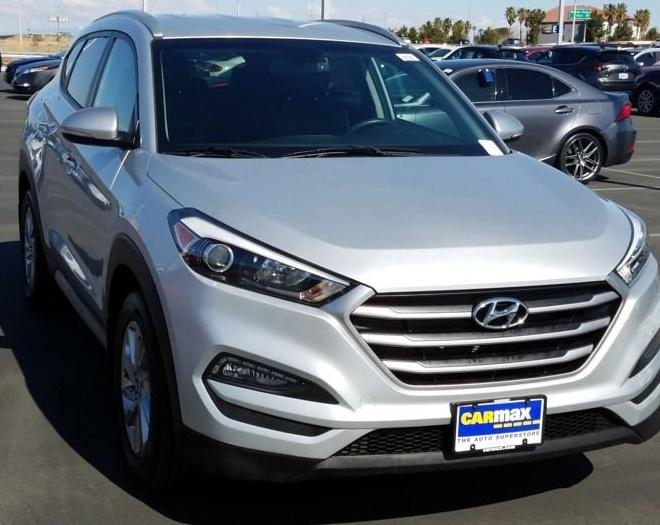Crossovers: (21, 12, 660, 485)
